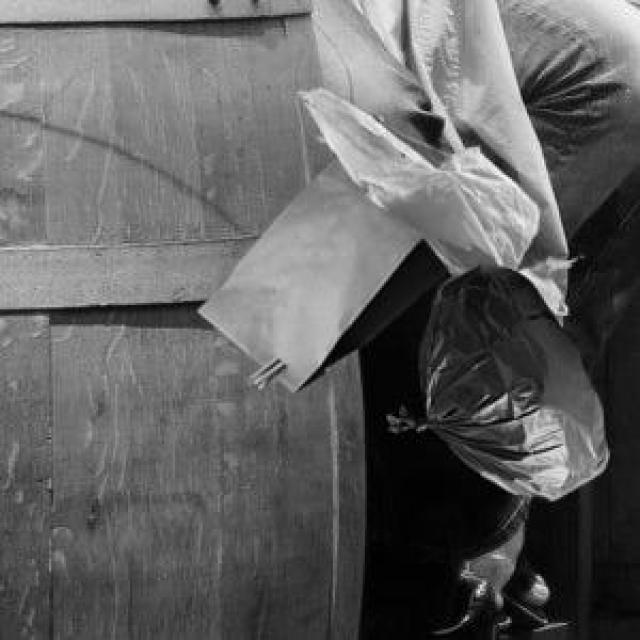miscellaneous trash: (384, 258, 604, 497)
paper: (194, 154, 444, 388)
